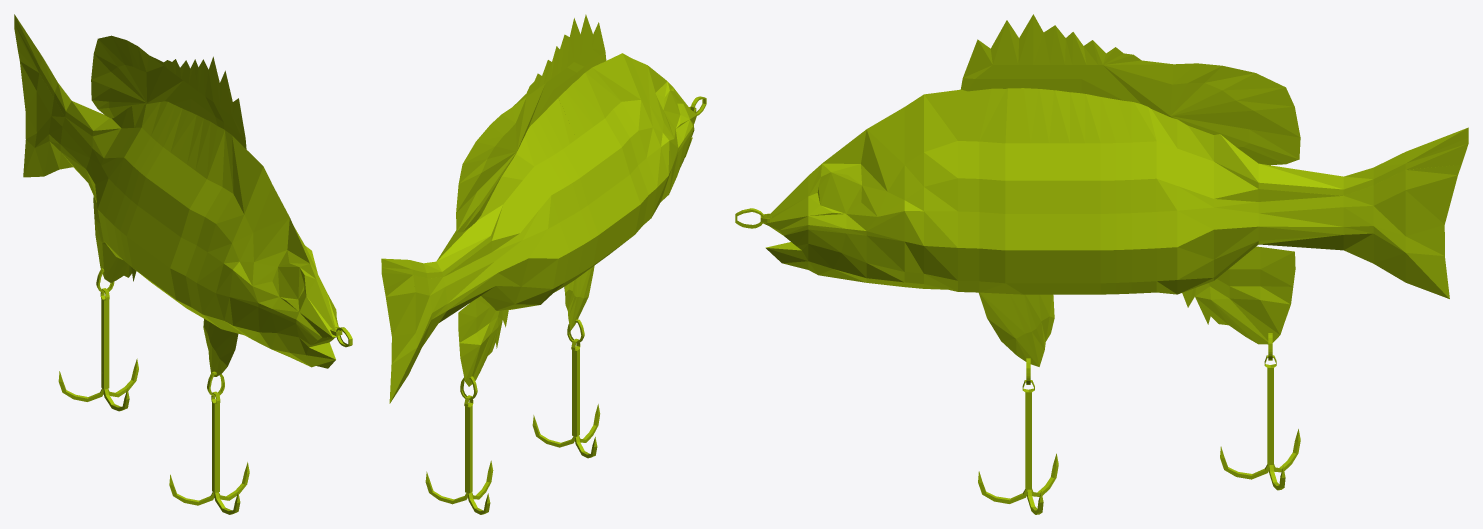
The model's file is Fishing_Bait4.fbx.
3 views of the same model, side by side, from view 1: azimuth 30°, elevation 25°; view 2: azimuth 150°, elevation 25°; view 3: azimuth 270°, elevation 25° (orthographic). The views are drawn at different scales.
Visible parts, largest first — view 1: Fish; view 2: Fish; view 3: Fish.
Boxes of the visible parts, <box> form: Fish: <box>14,14,352,514</box>; Fish: <box>381,14,706,514</box>; Fish: <box>735,14,1468,514</box>.
Bounding box in the file's own units: 16.49 × 62.91 × 85.48.
